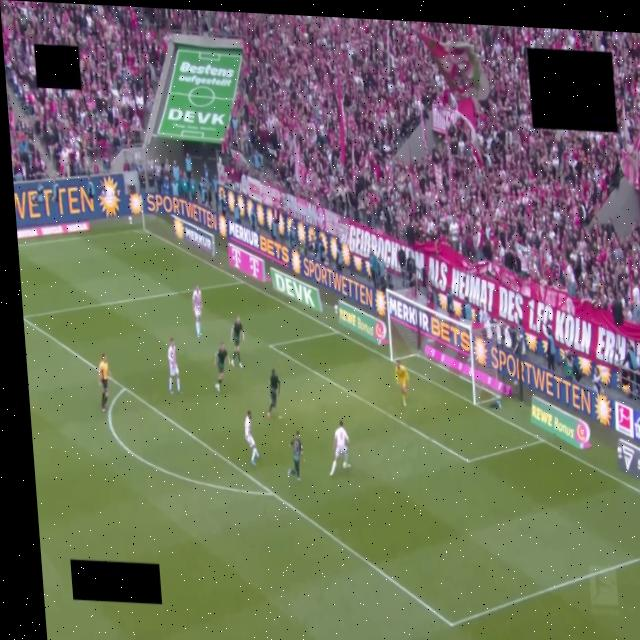player: (330, 421, 349, 476), (394, 360, 411, 406), (245, 411, 259, 465), (288, 431, 303, 480), (168, 338, 180, 393), (231, 317, 244, 367), (215, 343, 228, 391), (268, 370, 280, 419), (192, 286, 202, 337)
referee: (98, 353, 110, 411)
